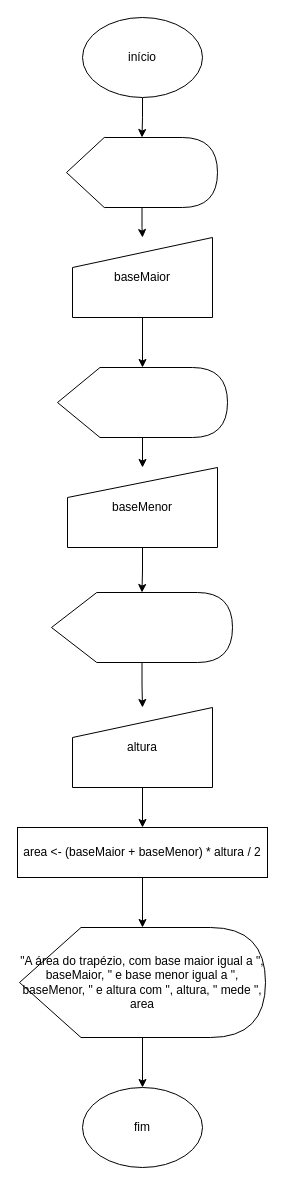
The diagram is 285 pixels wide and 1185 high, and some of its shapes have lost their labels. The centre of each missing label's shape, as x and y in pixels:
"Digite o valor da altura do trapézio": the point at 141,627
"Digite o valor da base maior do trapézio": the point at 142,172
"Digite o valor da base menor do trapézio": the point at 142,402
